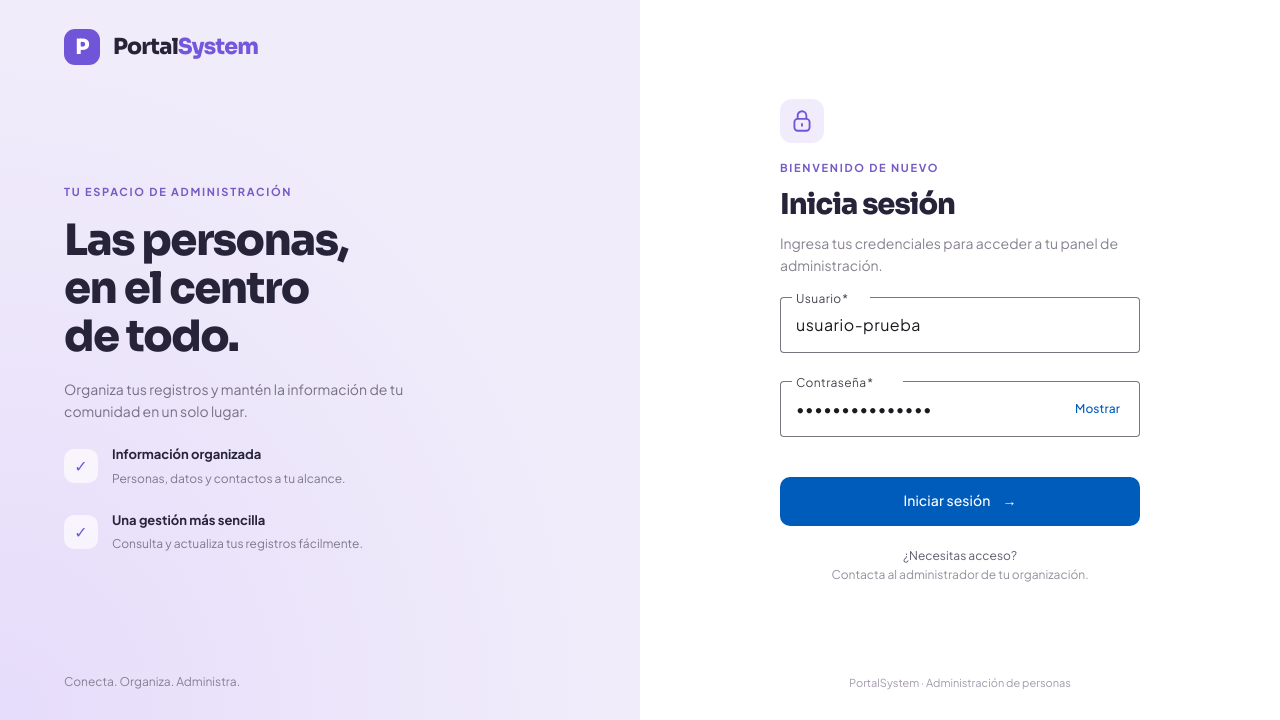
Test case: InicioComponent › muestra progreso, evita envíos repetidos y navega al completar el login
Click the submit button at (960, 501), box [780,477,1140,526]
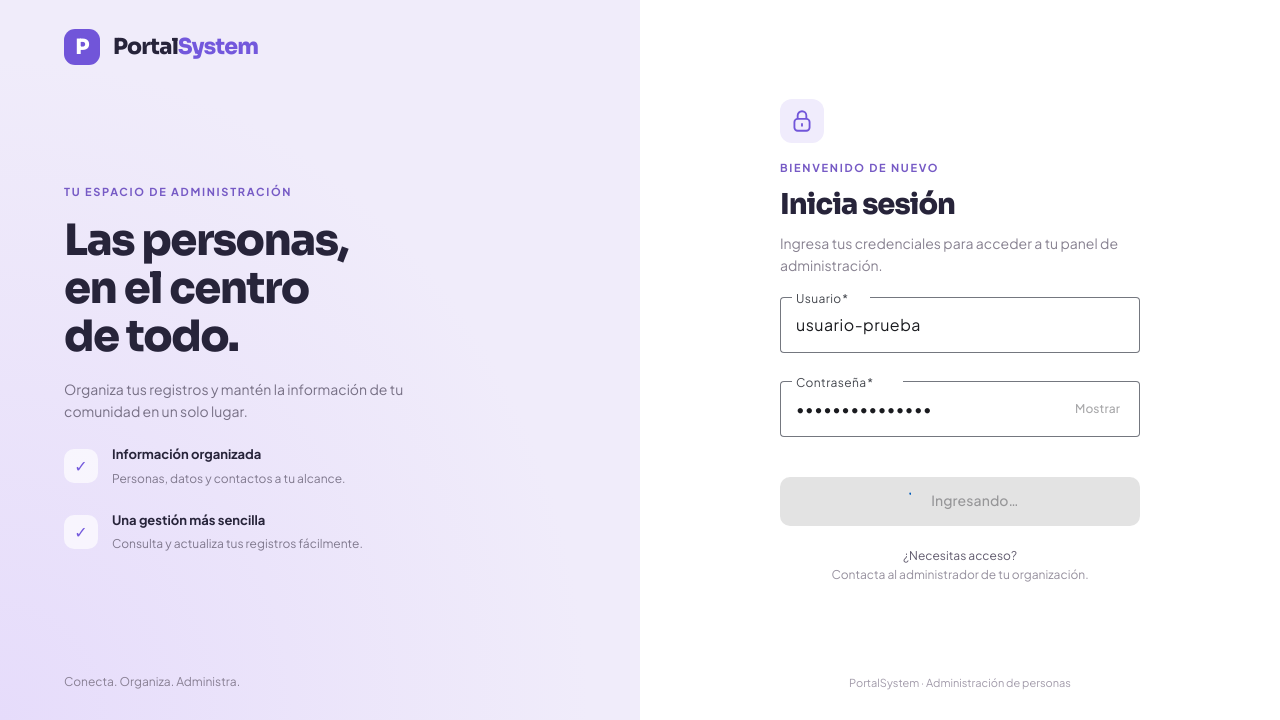
expect the progress indicator is shown: met, box [901,492,919,510]
expect the submit button is disabled: met, box [780,477,1140,526]
